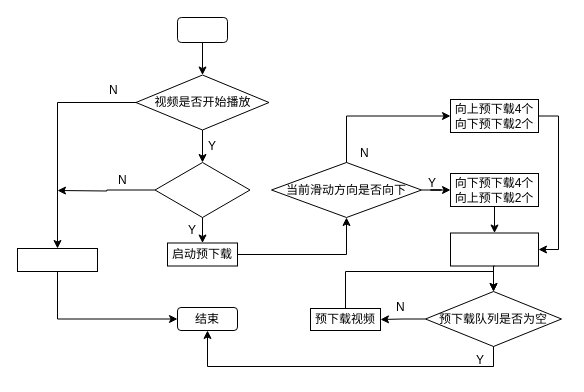
The diagram is 584 pixels wide and 392 high, and some of its shapes have lost their labels. The shapes that lost their labels are listed below. From the top down, each one's centre as x and y in pixels, then its label:
pixel 202 29: 开始
pixel 202 190: 是否 WiFi 环境
pixel 57 260: 不启动预下载
pixel 494 249: 预下载队列去重
